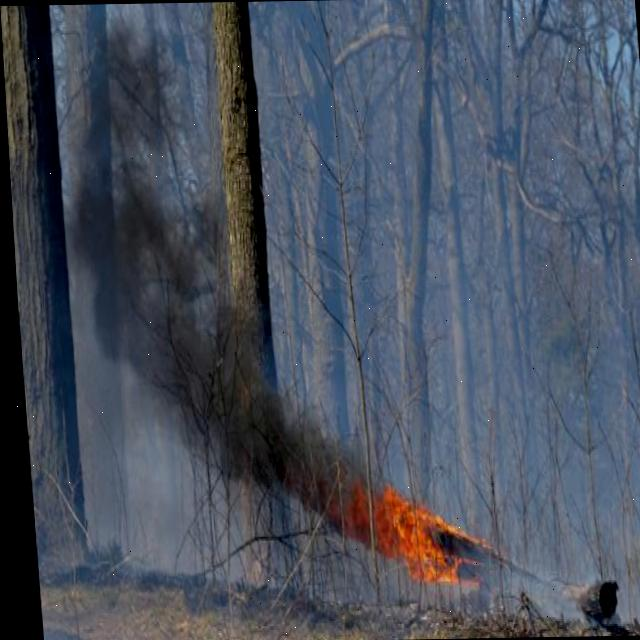fire: (368, 486, 484, 583), (337, 479, 361, 543)
smoke: (65, 2, 332, 583)
